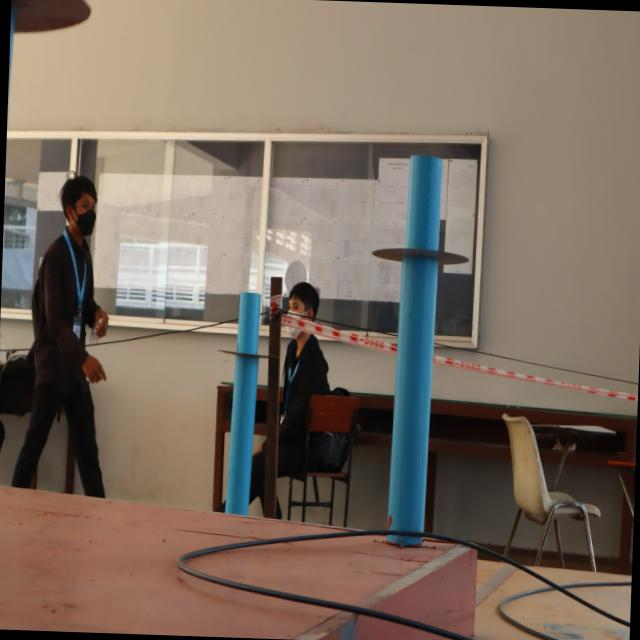pole: (362, 144, 480, 358), (214, 294, 277, 408)
